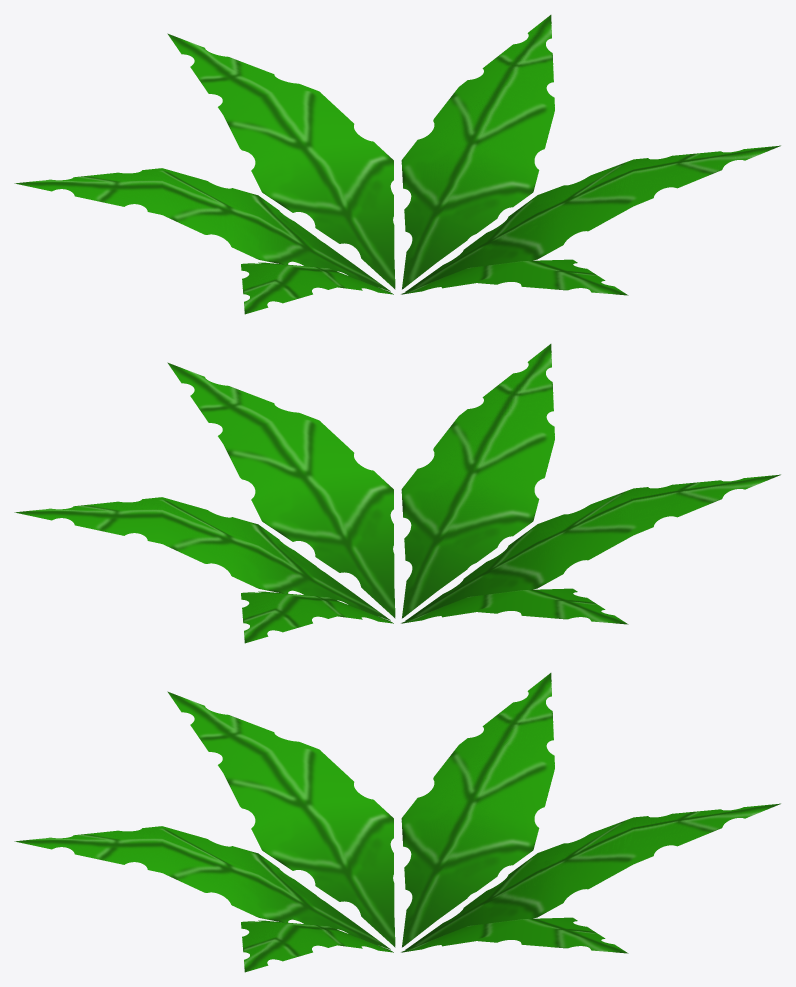
The model's file is plant_test.FBX.
The picture shows the model from 3 angles, top to bottom: view 1: azimuth 30°, elevation 25°; view 2: azimuth 150°, elevation 25°; view 3: azimuth 270°, elevation 25°; orthographic projection.
Visible parts, largest first — view 1: Plane023; view 2: Plane023; view 3: Plane023.
Part boxes in pixels (left/top/right/bottom): Plane023: left=14, top=15, right=780, bottom=314; Plane023: left=14, top=344, right=780, bottom=643; Plane023: left=14, top=673, right=780, bottom=972.
Bounding box in the file's own units: 0.9817 × 0.195 × 1.06.
